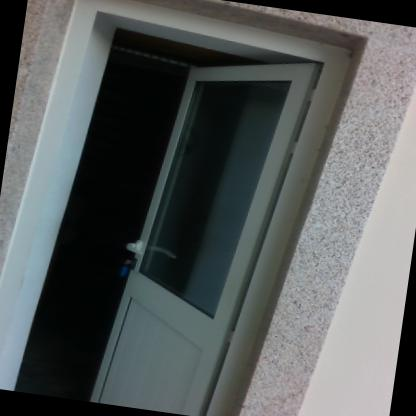semi: (20, 0, 341, 415)
